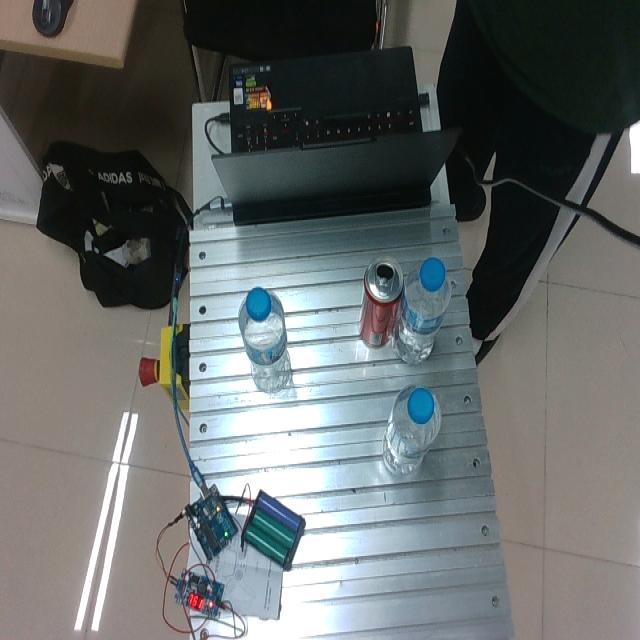coca: (358, 256, 404, 349)
lavie: (392, 260, 451, 364), (381, 385, 440, 476), (239, 288, 290, 393)
